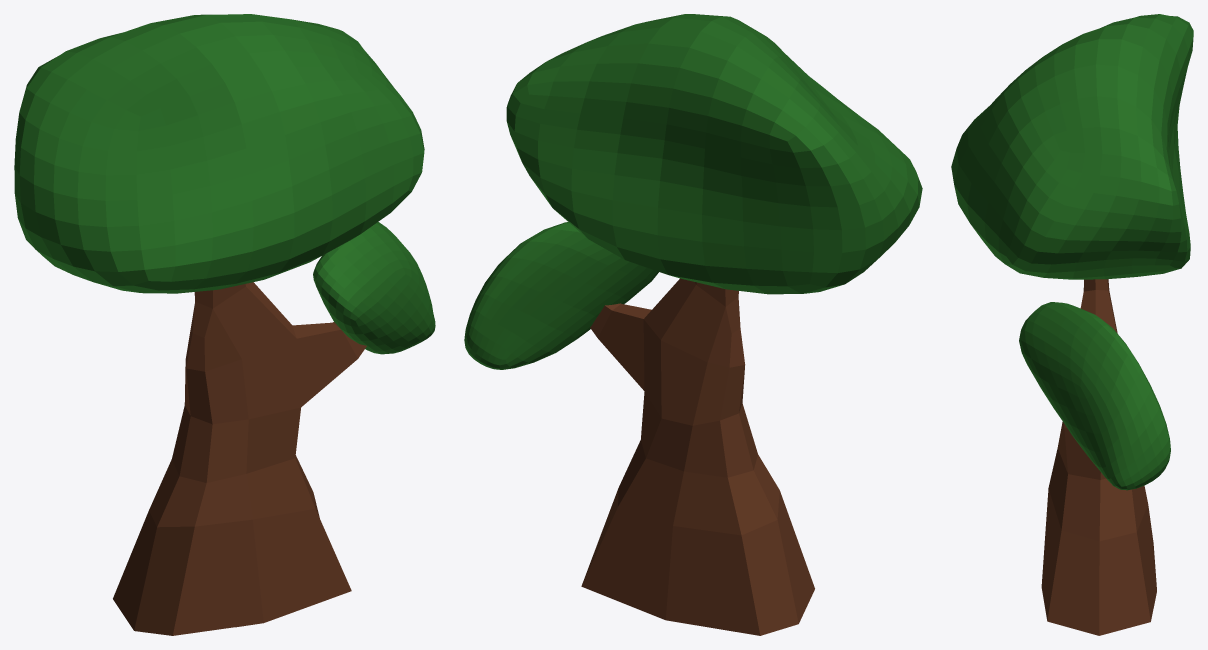
The model's file is Oak Tree 2.fbx.
The picture shows the model from 3 angles, left to right: view 1: azimuth 30°, elevation 25°; view 2: azimuth 150°, elevation 25°; view 3: azimuth 270°, elevation 25°; orthographic projection. The views are drawn at different scales.
Visible parts, largest first — view 1: Cube.001, Cube, Cube.002; view 2: Cube.001, Cube, Cube.002; view 3: Cube.001, Cube, Cube.002.
Boxes of the visible parts, <box> form: Cube.001: <box>14,14,424,293</box>; Cube: <box>113,282,366,635</box>; Cube.002: <box>313,222,435,354</box>; Cube.001: <box>506,14,922,294</box>; Cube: <box>581,278,814,635</box>; Cube.002: <box>464,222,658,369</box>; Cube.001: <box>951,14,1193,279</box>; Cube: <box>1041,279,1156,635</box>; Cube.002: <box>1019,302,1170,490</box>.
Bounding box in the file's own units: 2663 × 3754 × 1453.
